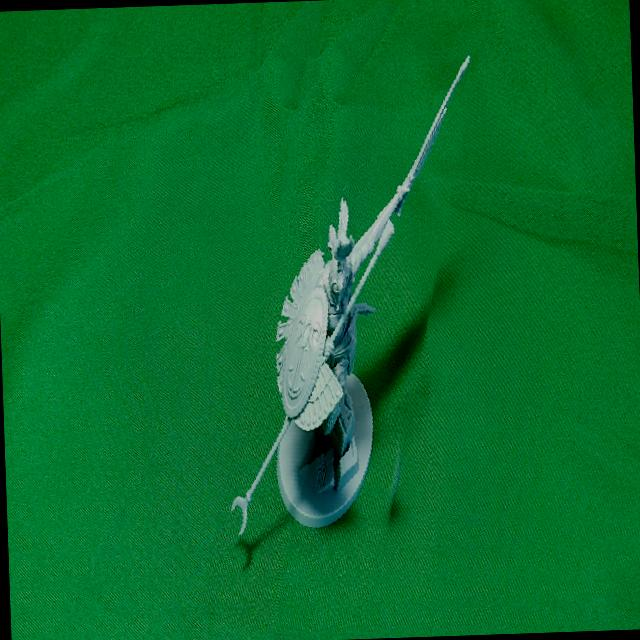isis: (211, 0, 471, 640)
